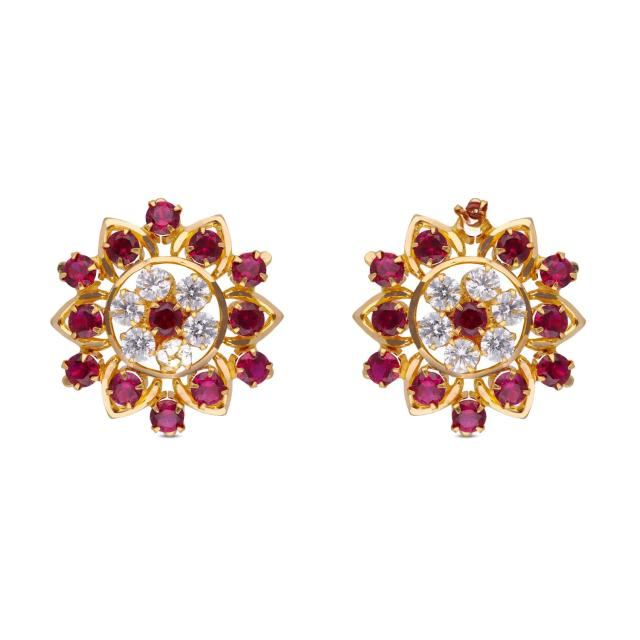missing gem: (454, 198, 489, 235), (158, 338, 193, 371)
